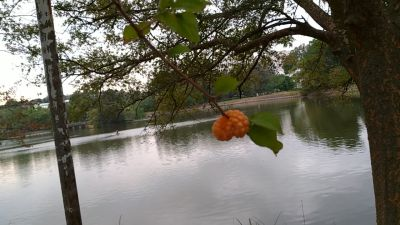eggs: (212, 109, 251, 143)
